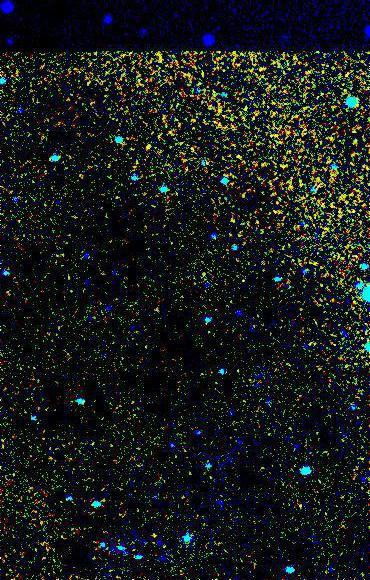star: (131, 135, 161, 165)
